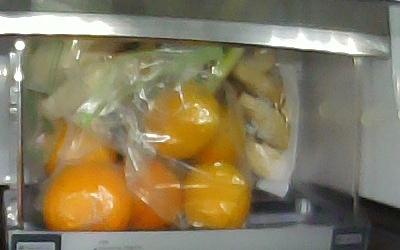orange_vinyl: (140, 83, 220, 158), (43, 164, 129, 229), (113, 157, 184, 229), (39, 118, 120, 181), (182, 163, 250, 229)
